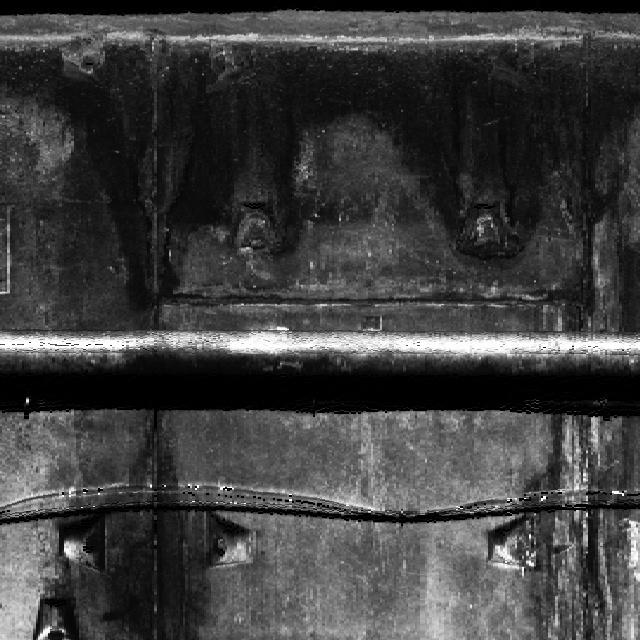leakage: (0, 31, 638, 329), (69, 409, 207, 639), (517, 401, 639, 639)
